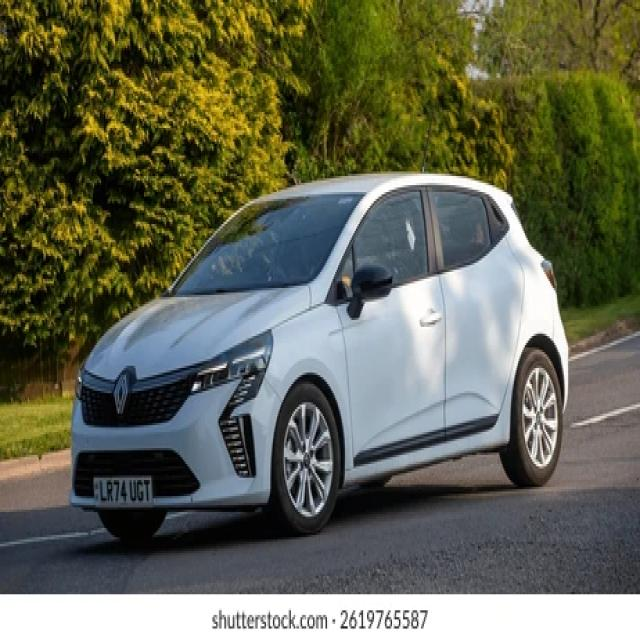renault: (109, 372, 132, 424)
